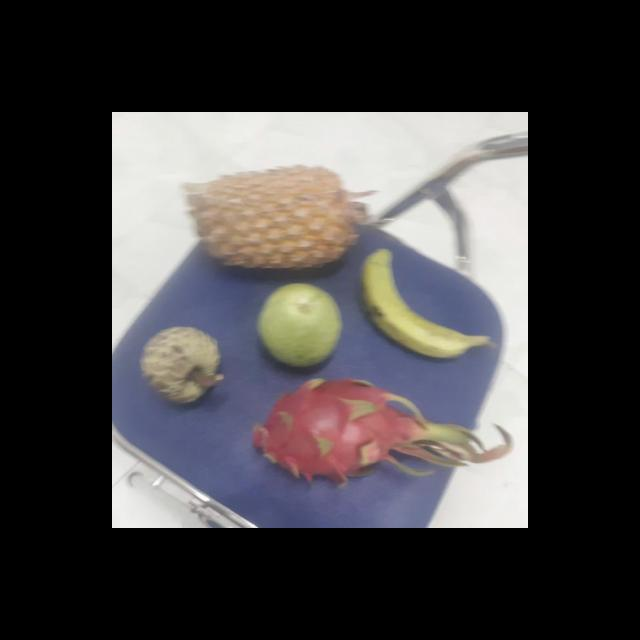Sakya fruit: (140, 327, 222, 403)
guava: (255, 283, 342, 371)
pitaya: (247, 378, 418, 486)
